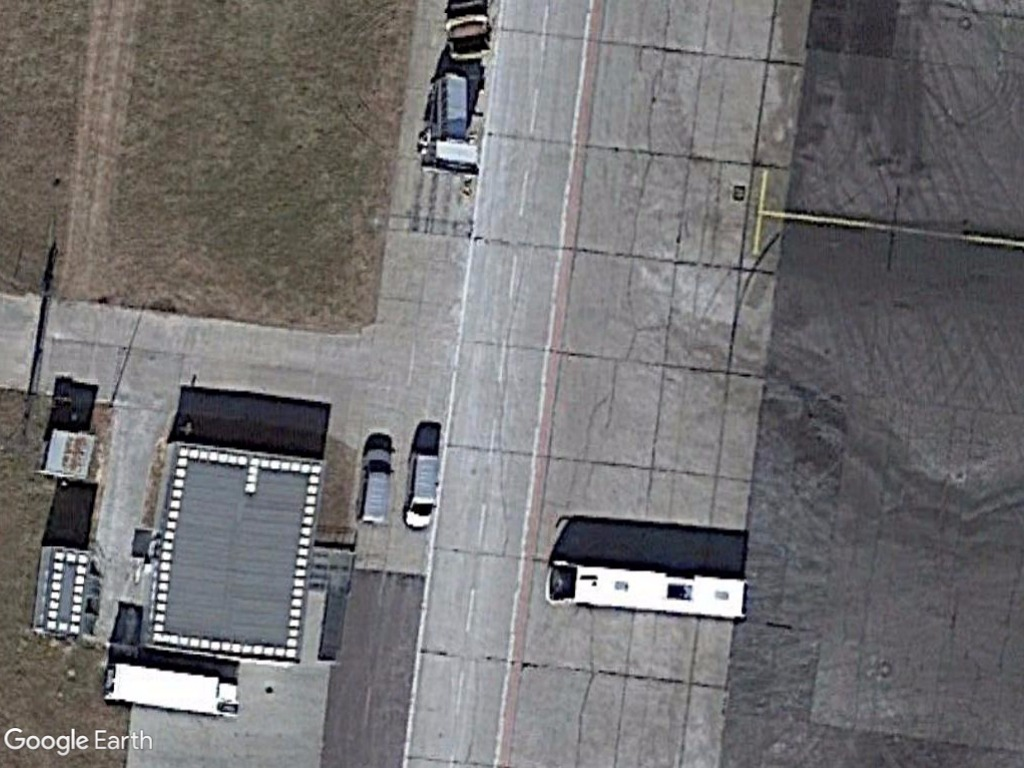bus: (540, 558, 757, 624)
truck: (101, 659, 248, 724)
van: (353, 440, 397, 530), (400, 448, 446, 534)
